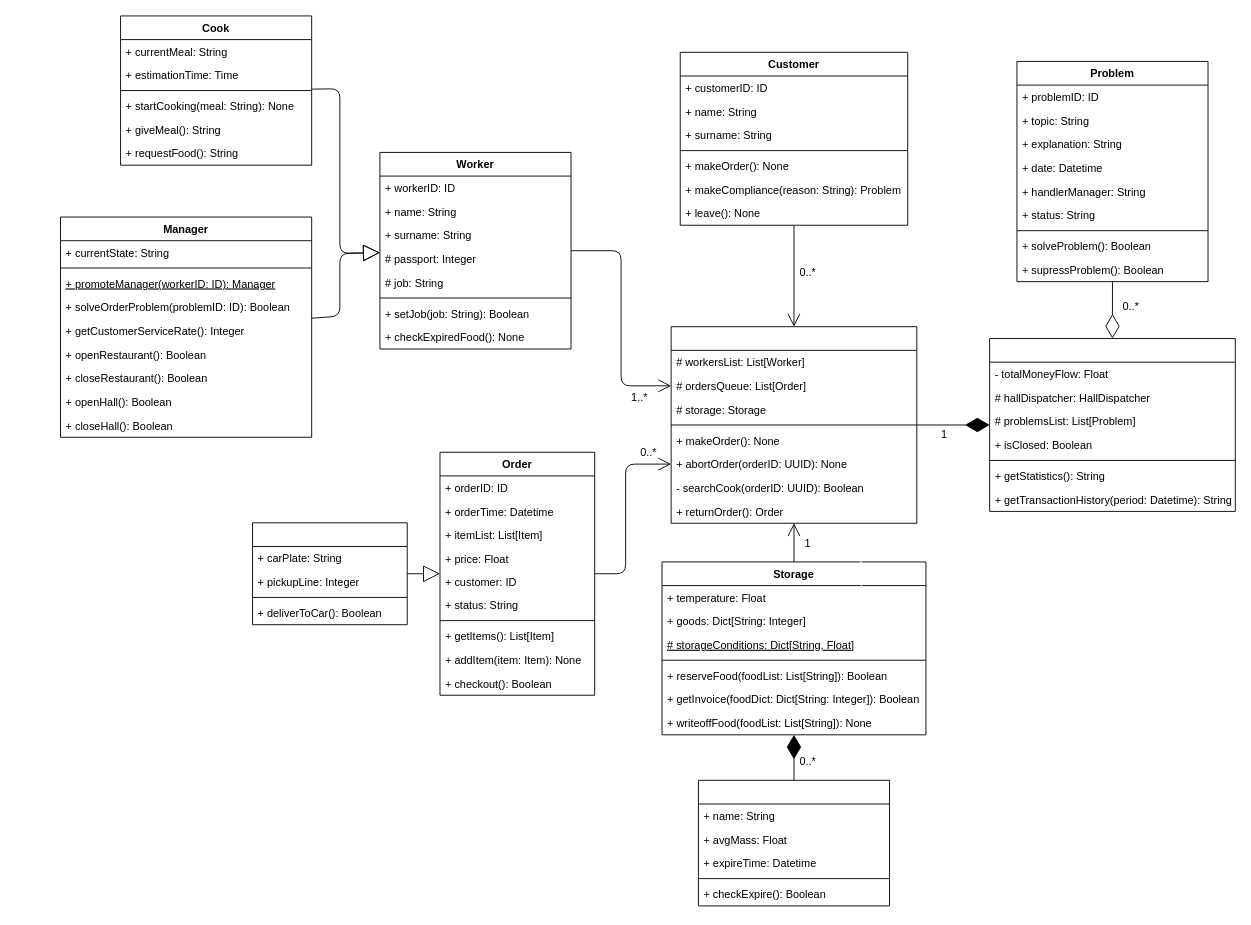
Some shapes in this 1251 by 925 pixel diagram are drawn without their labels. The box of each missing label's shape, as (x1, y1, x2, y2) in pixels:
CarOrder: (252, 522, 407, 625)
Food: (698, 779, 890, 906)
HallDispatcher: (670, 326, 917, 523)
Restaurant: (989, 338, 1235, 511)
